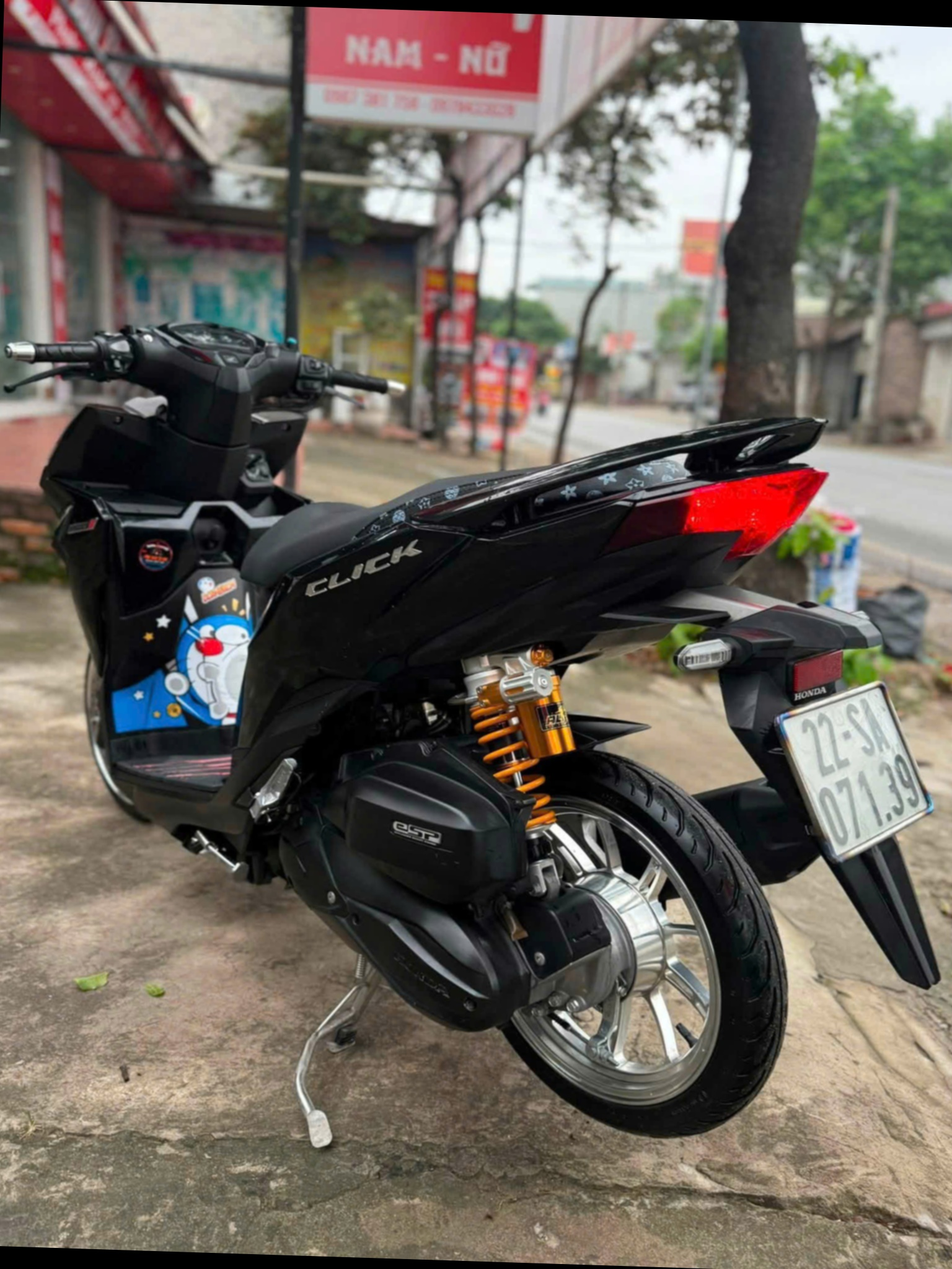Bien-so: (779, 676, 937, 867)
